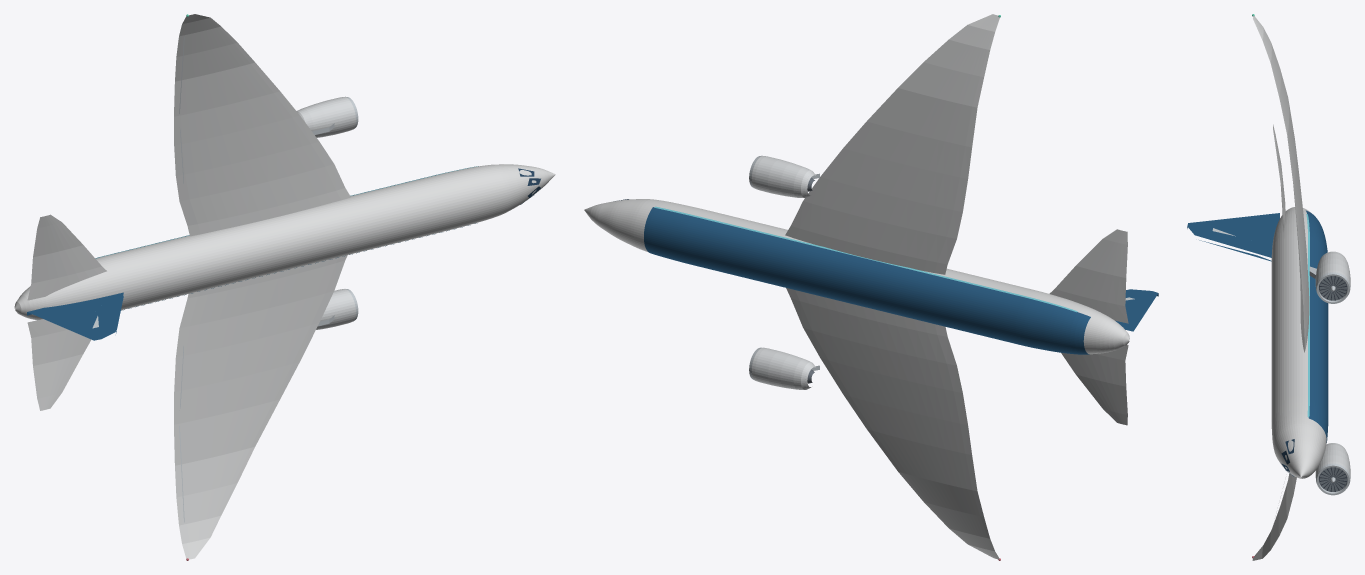
Rendered from studyflight-787-9.glb.
3 views of the same model, side by side, from view 1: azimuth 30°, elevation 25°; view 2: azimuth 150°, elevation 25°; view 3: azimuth 270°, elevation 25° (orthographic).
Parts seen in each view (by area): view 1: 787_flexed_swept_main_wing_-1, 787-9_white_composite_fuselage, 787_flexed_swept_main_wing_1, 787_horizontal_tailplane_1, 787_horizontal_tailplane_-1, 787_swept_vertical_tail, 787_large_engine_nacelle_1, 787_large_engine_nacelle_-1; view 2: 787_flexed_swept_main_wing_1, 787_flexed_swept_main_wing_-1, deep_navy_lower_fuselage, 787-9_white_composite_fuselage, 787_horizontal_tailplane_1, 787_horizontal_tailplane_-1, 787_large_engine_nacelle_-1, 787_large_engine_nacelle_1, 787_swept_vertical_tail, cyan_cabin_accent_1; view 3: 787-9_white_composite_fuselage, deep_navy_lower_fuselage, 787_flexed_swept_main_wing_1, 787_swept_vertical_tail, 787_flexed_swept_main_wing_-1, 787_large_engine_nacelle_1, 787_large_engine_nacelle_-1, cyan_cabin_accent_1, 787_horizontal_tailplane_1, 787_polished_intake_lip_-1, 787_polished_intake_lip_1, 787_intake_black_1 (+1 smaller).
Part boxes in pixels (bbox=[...]): 787_flexed_swept_main_wing_-1: bbox=[174, 255, 347, 559]; 787-9_white_composite_fuselage: bbox=[14, 164, 555, 320]; 787_flexed_swept_main_wing_1: bbox=[174, 14, 350, 236]; 787_horizontal_tailplane_1: bbox=[27, 214, 106, 300]; 787_horizontal_tailplane_-1: bbox=[27, 319, 91, 410]; 787_swept_vertical_tail: bbox=[27, 292, 123, 340]; 787_large_engine_nacelle_1: bbox=[296, 97, 355, 137]; 787_large_engine_nacelle_-1: bbox=[316, 289, 355, 329]; 787_flexed_swept_main_wing_1: bbox=[785, 14, 999, 274]; 787_flexed_swept_main_wing_-1: bbox=[786, 288, 999, 559]; deep_navy_lower_fuselage: bbox=[644, 207, 1090, 354]; 787-9_white_composite_fuselage: bbox=[584, 199, 1129, 354]; 787_horizontal_tailplane_1: bbox=[1049, 229, 1128, 323]; 787_horizontal_tailplane_-1: bbox=[1061, 345, 1128, 425]; 787_large_engine_nacelle_-1: bbox=[751, 347, 815, 389]; 787_large_engine_nacelle_1: bbox=[751, 156, 815, 198]; 787_swept_vertical_tail: bbox=[1115, 289, 1158, 331]; cyan_cabin_accent_1: bbox=[654, 206, 1077, 312]; 787-9_white_composite_fuselage: bbox=[1271, 207, 1326, 478]; deep_navy_lower_fuselage: bbox=[1306, 210, 1328, 442]; 787_flexed_swept_main_wing_1: bbox=[1253, 16, 1309, 352]; 787_swept_vertical_tail: bbox=[1187, 213, 1279, 261]; 787_flexed_swept_main_wing_-1: bbox=[1252, 473, 1296, 560]; 787_large_engine_nacelle_1: bbox=[1315, 251, 1350, 286]; 787_large_engine_nacelle_-1: bbox=[1315, 443, 1350, 478]; cyan_cabin_accent_1: bbox=[1306, 214, 1309, 417]; 787_horizontal_tailplane_1: bbox=[1273, 124, 1285, 232]; 787_polished_intake_lip_-1: bbox=[1316, 463, 1350, 495]; 787_polished_intake_lip_1: bbox=[1316, 272, 1350, 303]; 787_intake_black_1: bbox=[1319, 276, 1347, 300].
Size of the model in its own units: 62.75 by 60.32 by 16.41.
